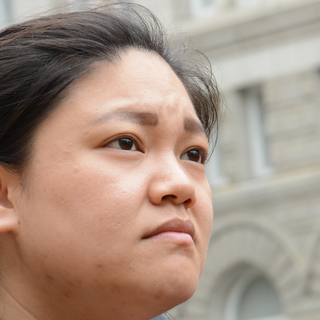eye: (95, 131, 146, 158), (175, 142, 214, 168)
